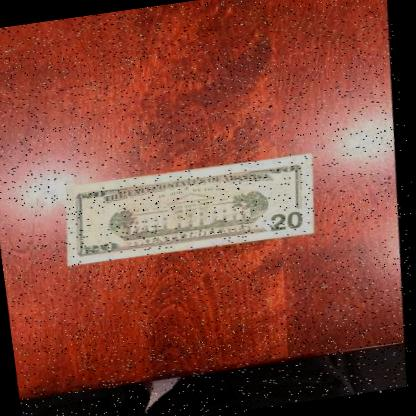twenty-back: (60, 149, 327, 269)
